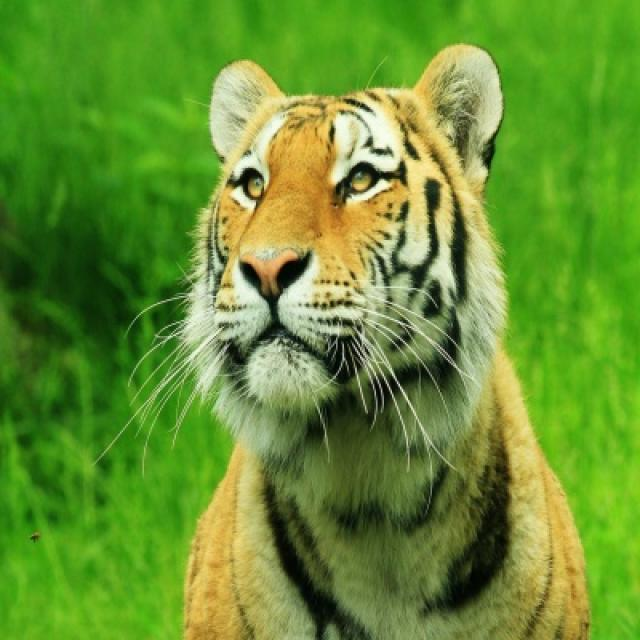Tiger: (211, 71, 508, 640)
